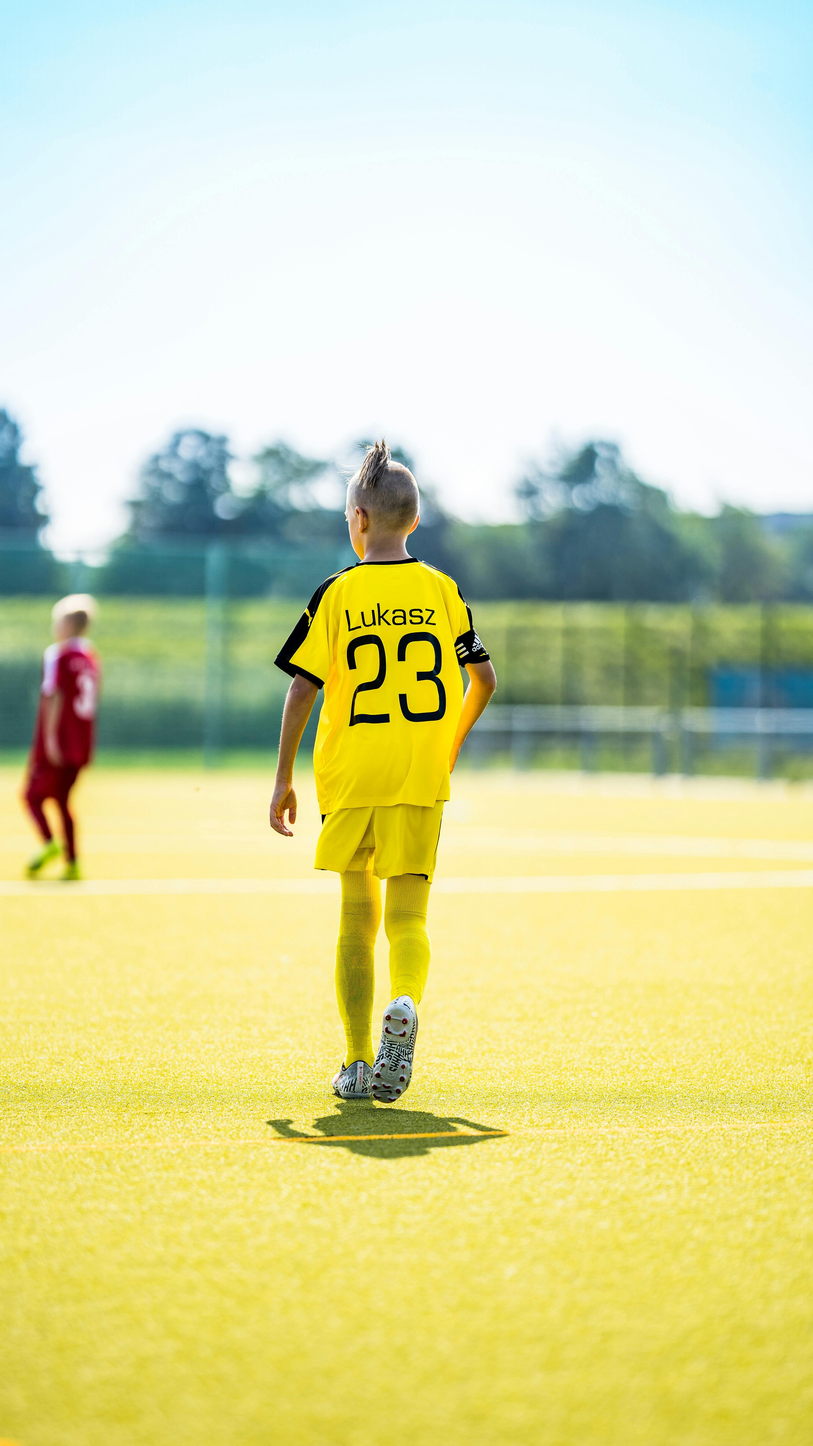Human: (230, 403, 520, 1138), (13, 572, 107, 899)
